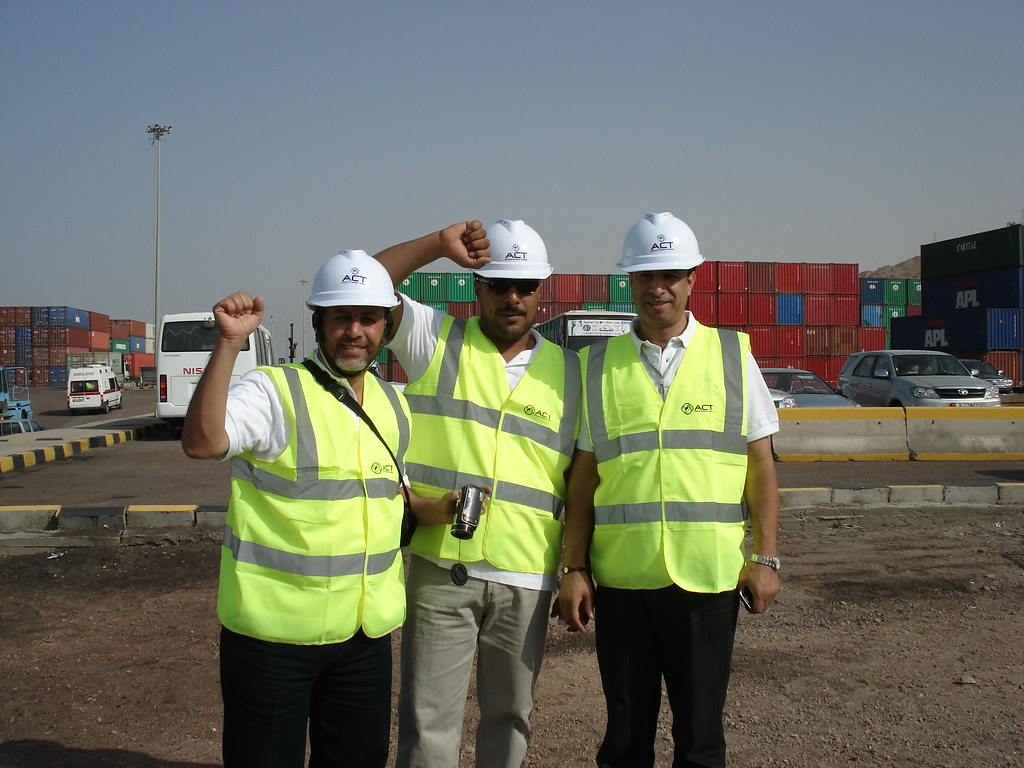Helmet: (606, 206, 727, 353), (295, 244, 405, 392), (466, 215, 561, 348)
Reflective vest: (216, 356, 413, 649), (408, 316, 584, 592), (577, 324, 756, 595)
